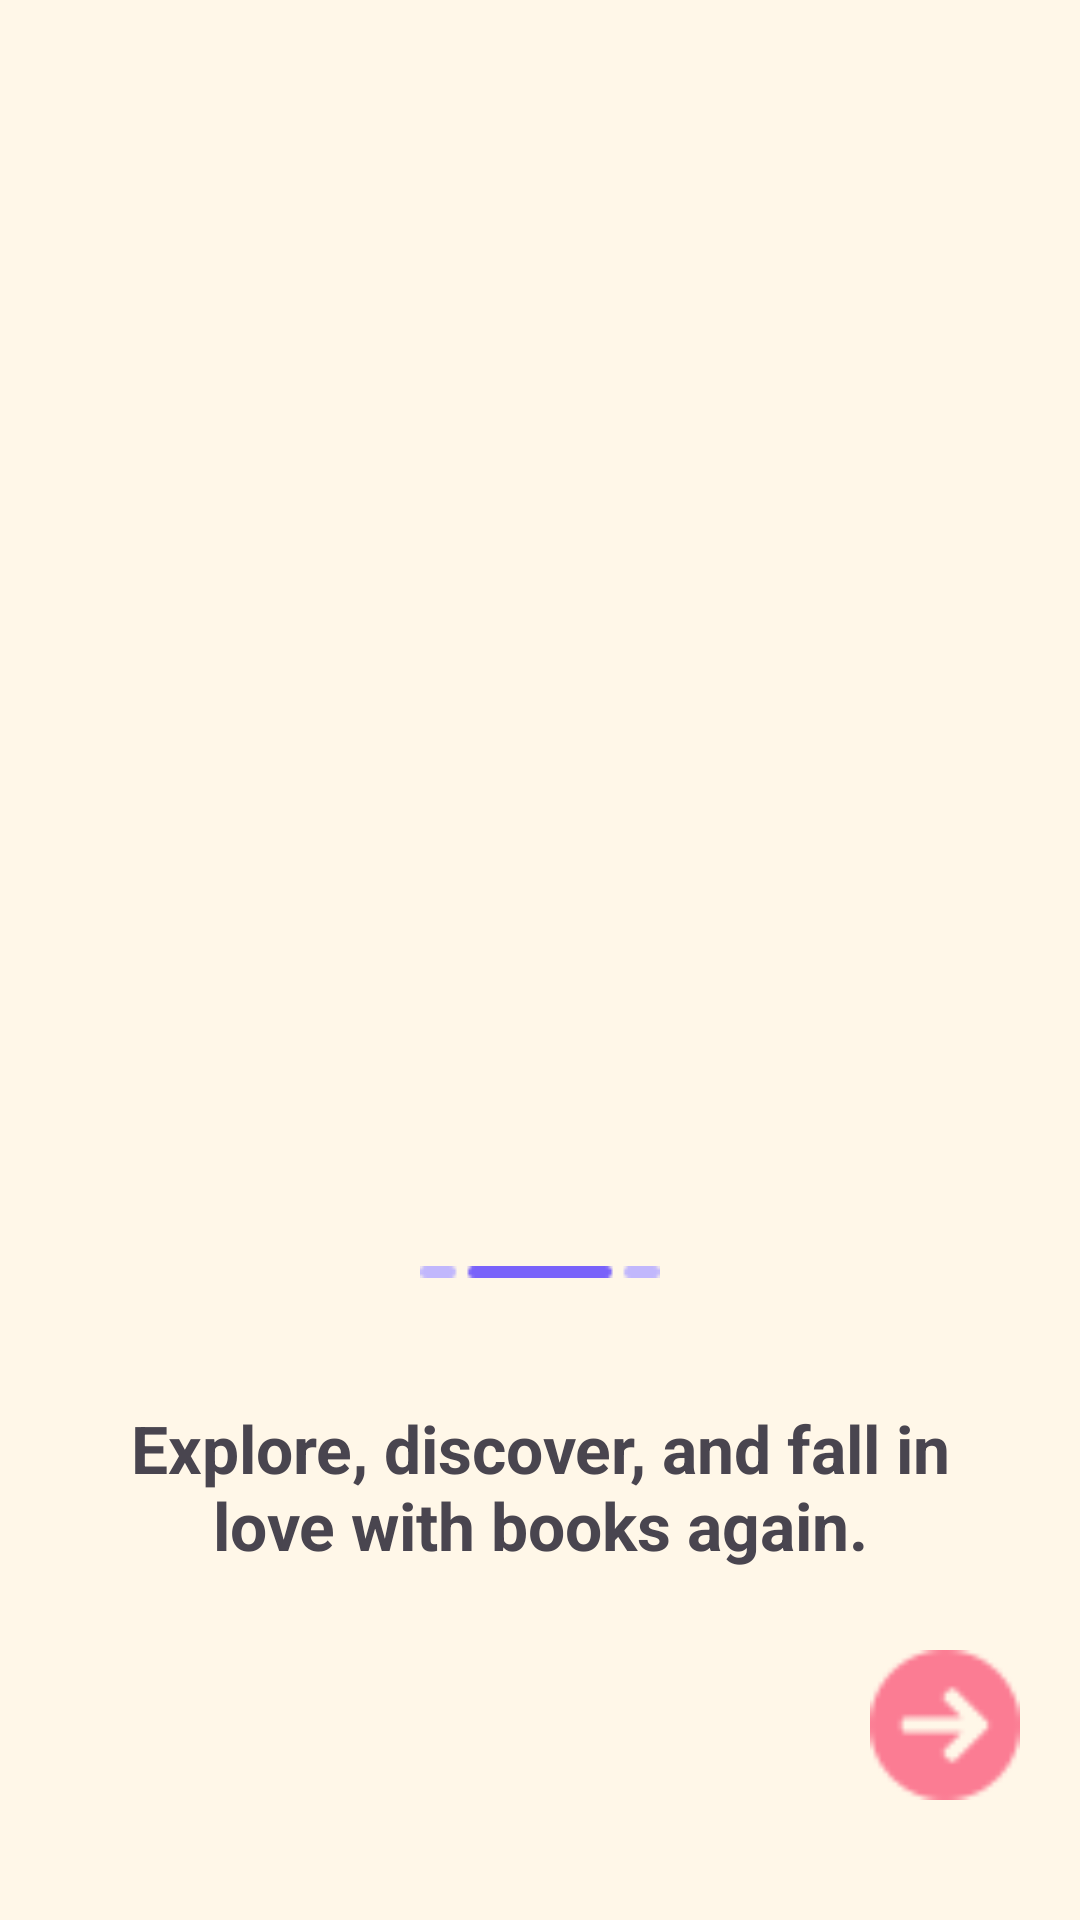

Point at icon controls on the screen. Image size 1080px x 1920px, points as point (x, y).
arrow: point (945, 1725)
